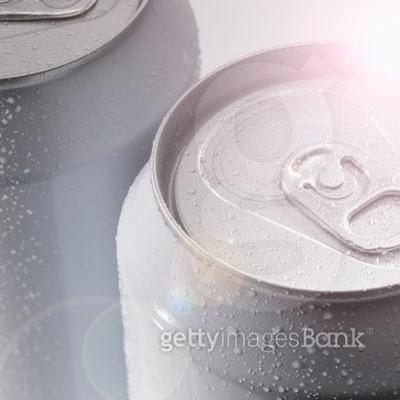beer: (114, 37, 398, 400)
